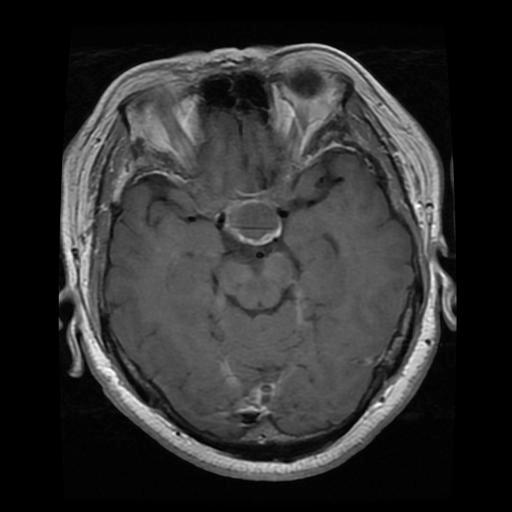Tumour-Pituitary: (201, 193, 304, 256)
